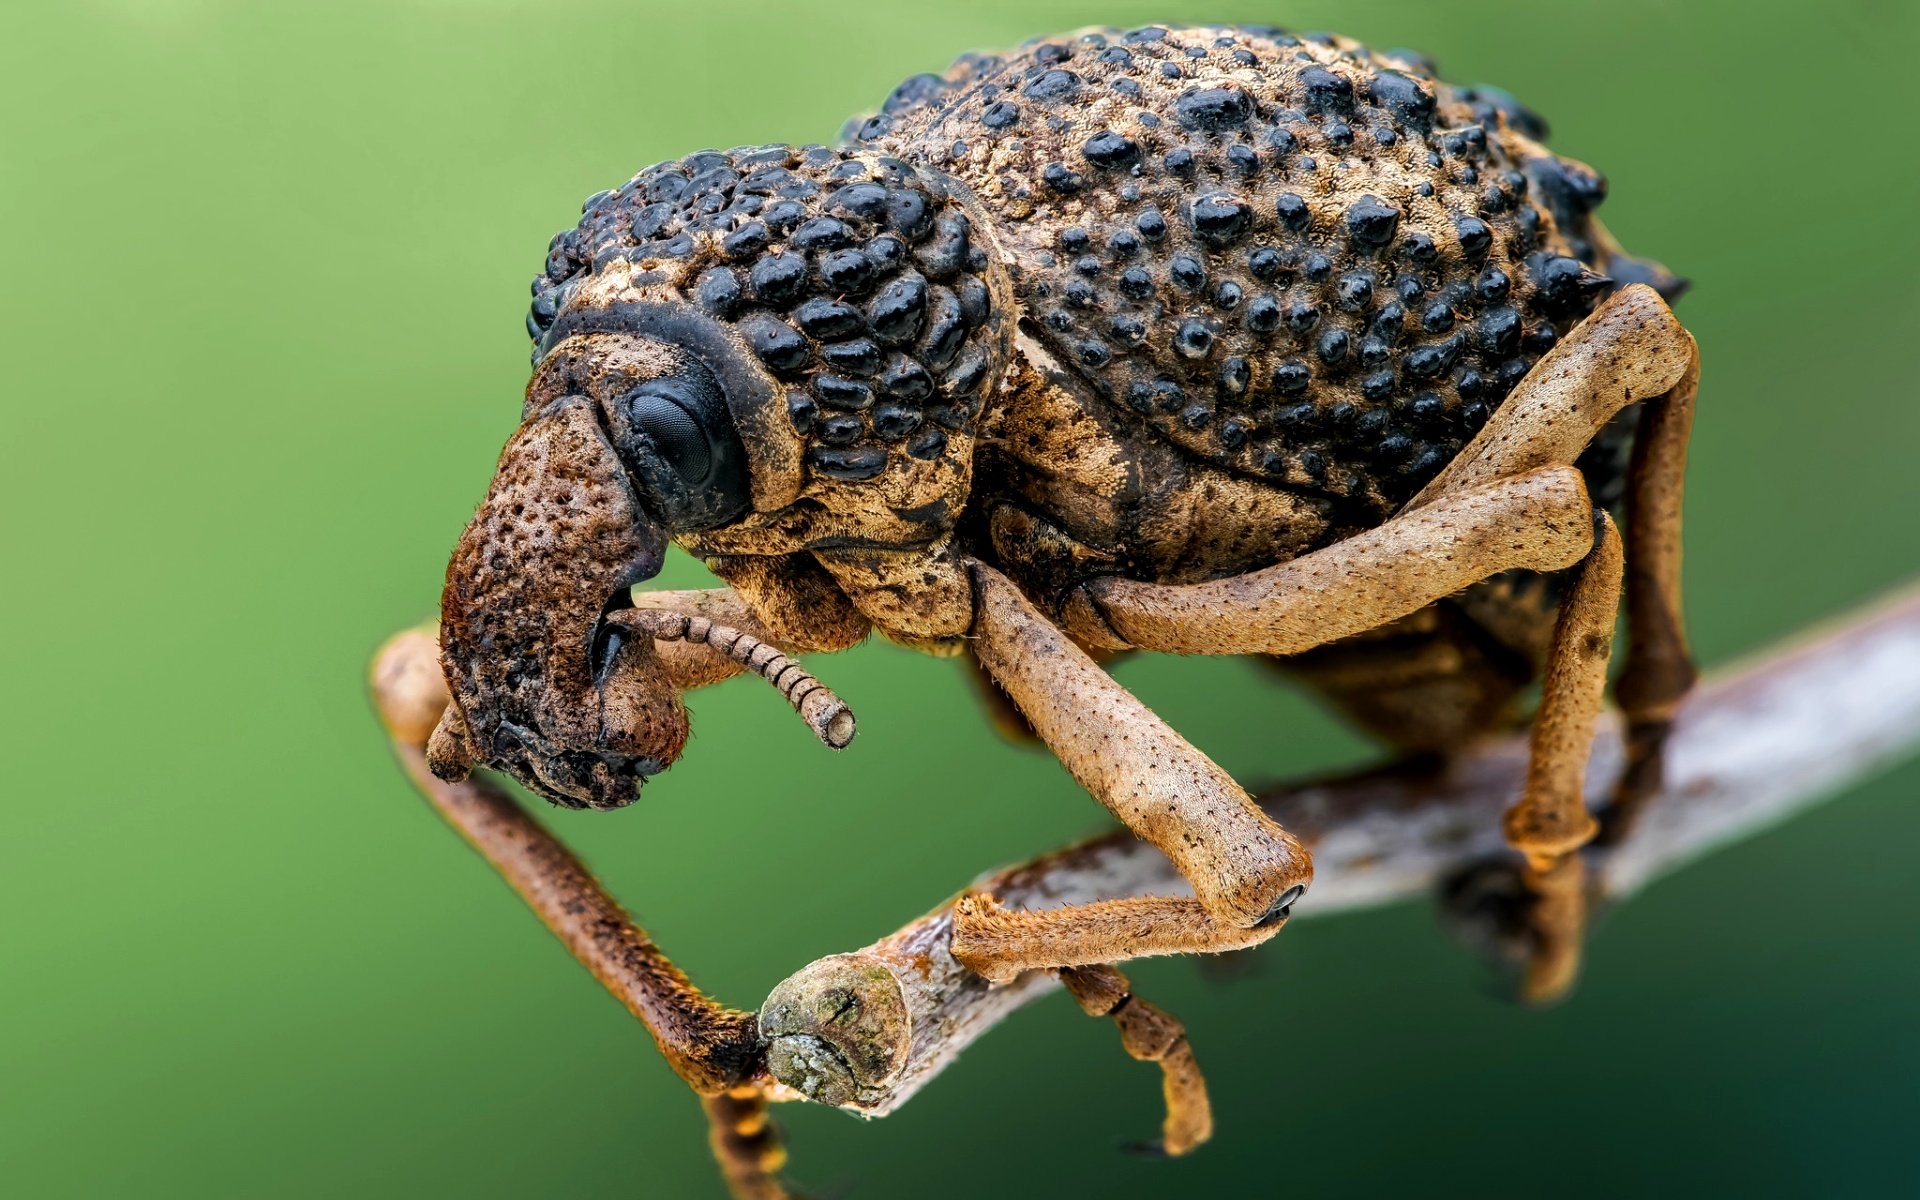dolgonosik: (368, 14, 1707, 1200)
